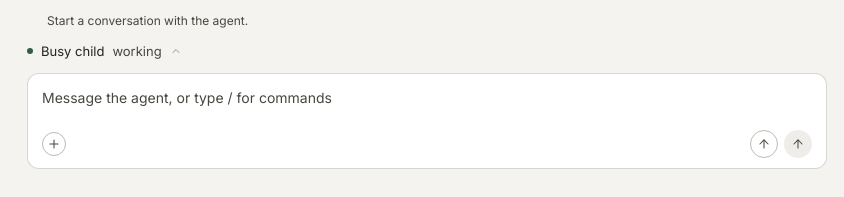
it: a child the parent created, with no task event › offers the archive for a finished child and closes it on confirm
Click the button with test id "who-is-working" at [104, 51], box x1=19 y1=37 x2=190 y2=65
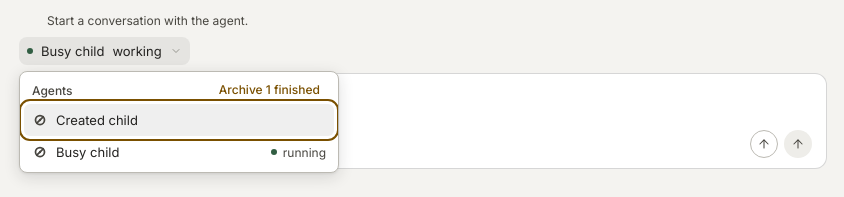
Expected: the button "Archive 1 finished" is shown, x1=213 y1=78 x2=326 y2=102
